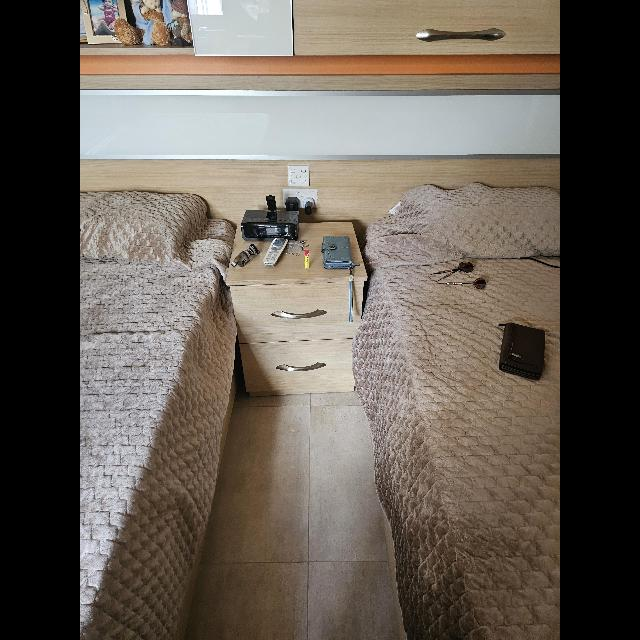Sunglasses: (230, 243, 260, 267)
Wallet: (495, 322, 543, 381), (322, 236, 356, 270)
